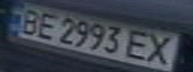2: (54, 15, 78, 46)
3: (103, 24, 127, 56)
9: (69, 18, 93, 50), (87, 20, 109, 52)
B: (12, 6, 45, 35)
E: (124, 28, 157, 62), (30, 10, 63, 39)
X: (142, 32, 184, 66)
